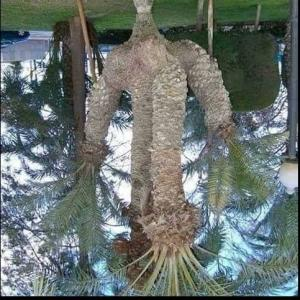palm tree: (1, 0, 299, 296)
